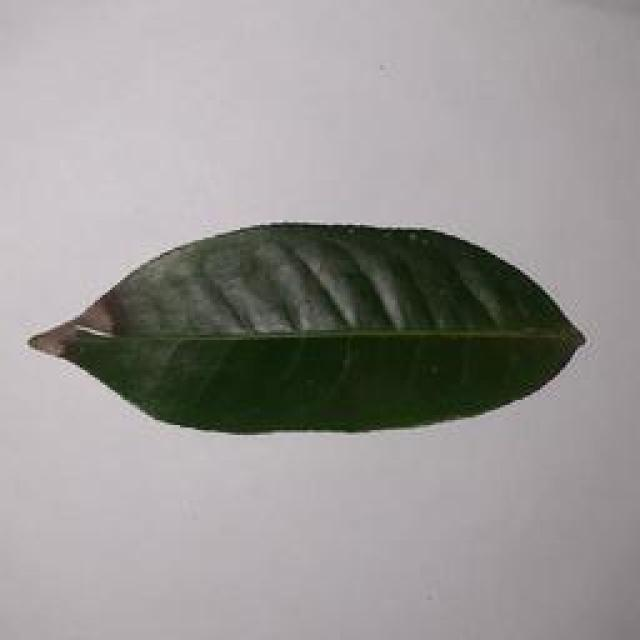Brown Blight: (20, 212, 601, 443)
